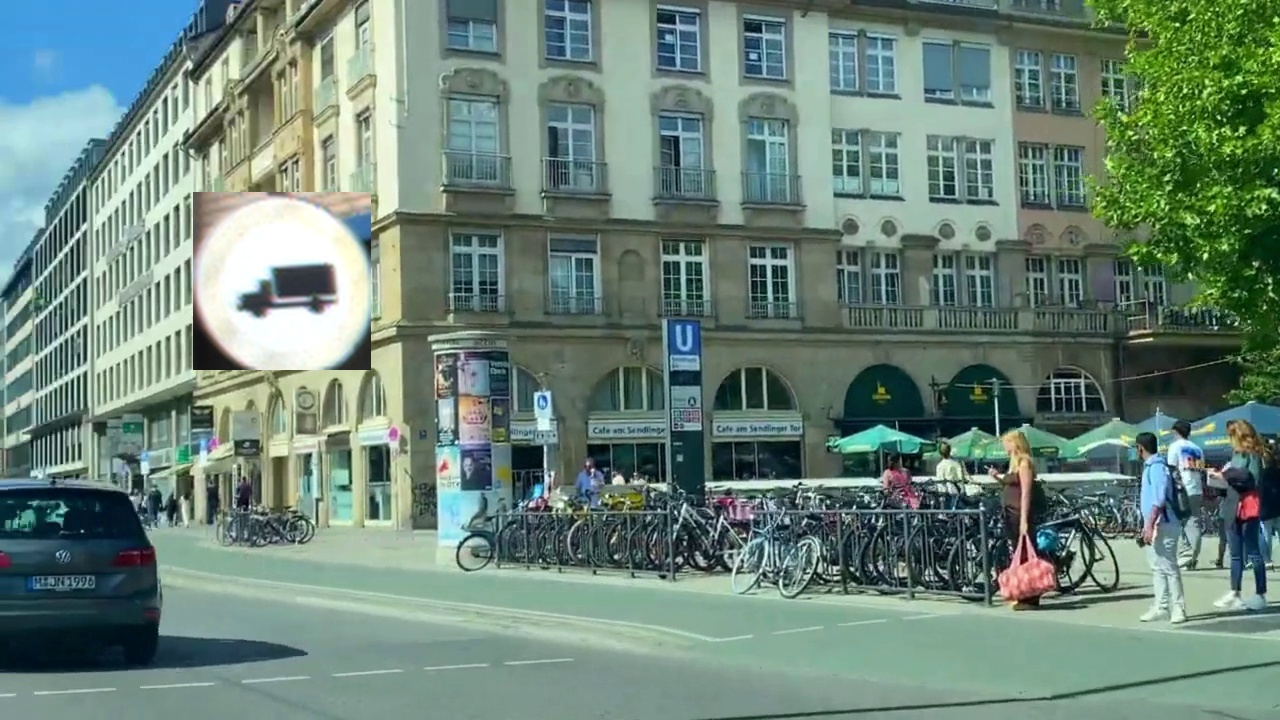Veh >3.5t prohib: (193, 192, 371, 370)
